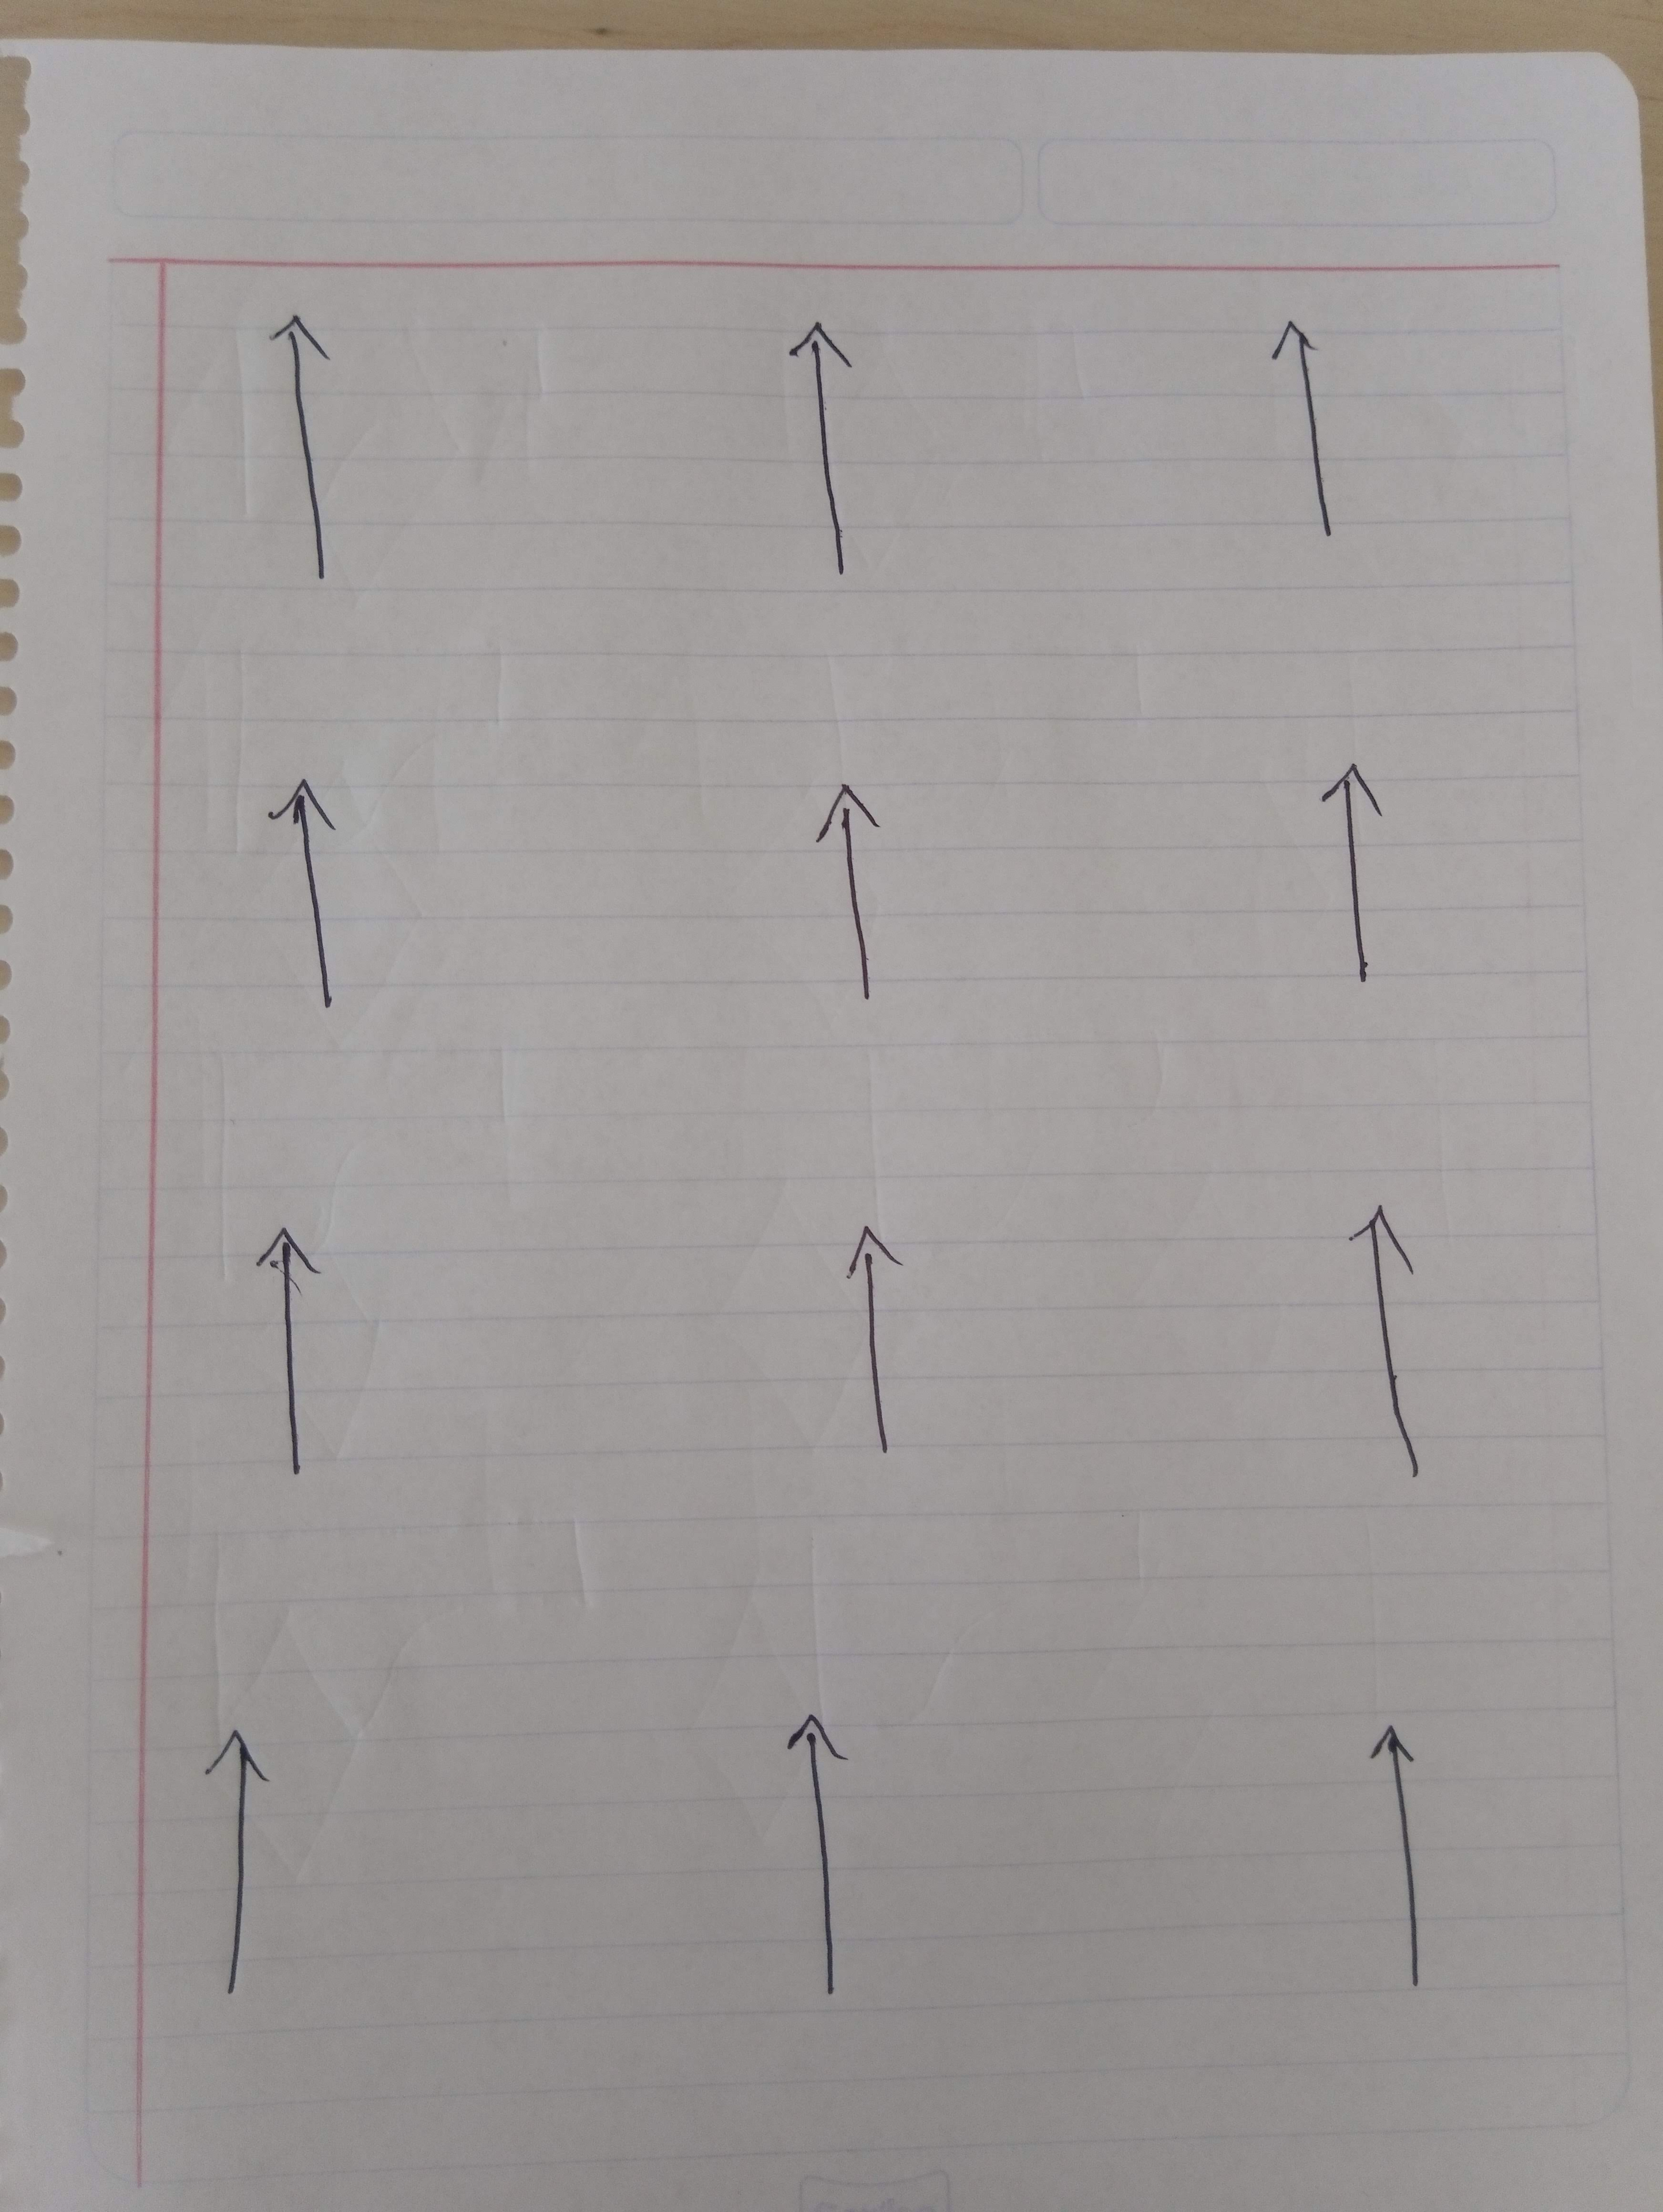arrow_line_up: (246, 768, 393, 1089), (770, 1688, 898, 2050), (154, 1735, 313, 2022), (1286, 768, 1448, 1032), (1343, 1720, 1480, 2015), (758, 311, 889, 616), (1333, 1213, 1464, 1503), (1251, 318, 1382, 581), (253, 306, 346, 623), (804, 775, 914, 1035), (805, 1212, 924, 1453), (238, 1220, 328, 1491)
